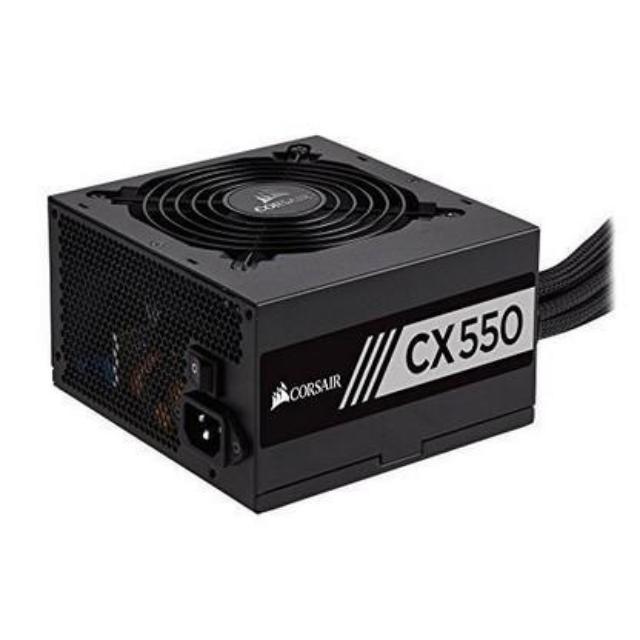PSU: (33, 120, 550, 520)
